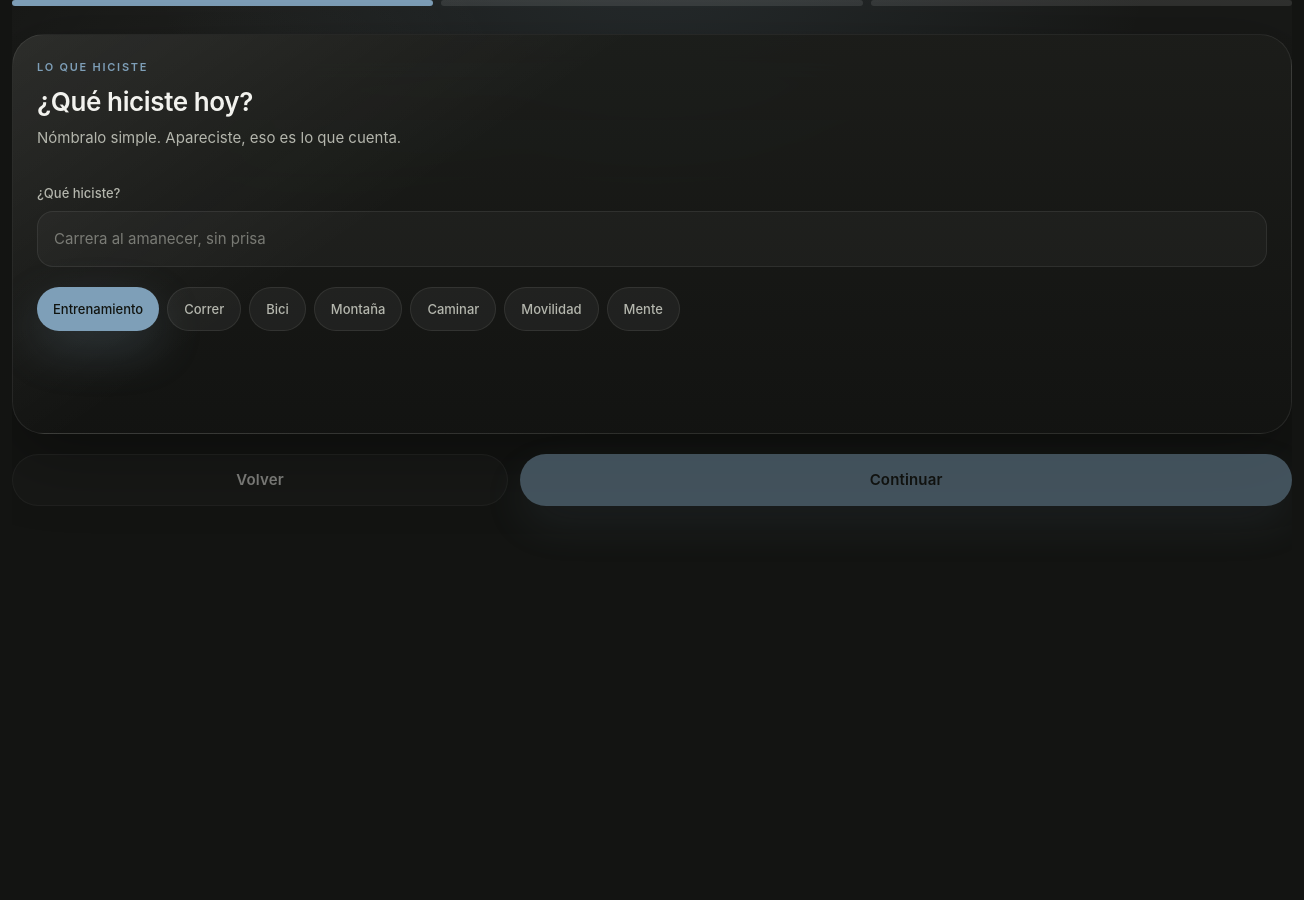
Test case: CommitFlowClient › reveals the note type only after words are written (writing before classification)
In the field labelled "¿Qué hiciste?": (652, 239) [37,211,1267,267], type "Tren inferior"
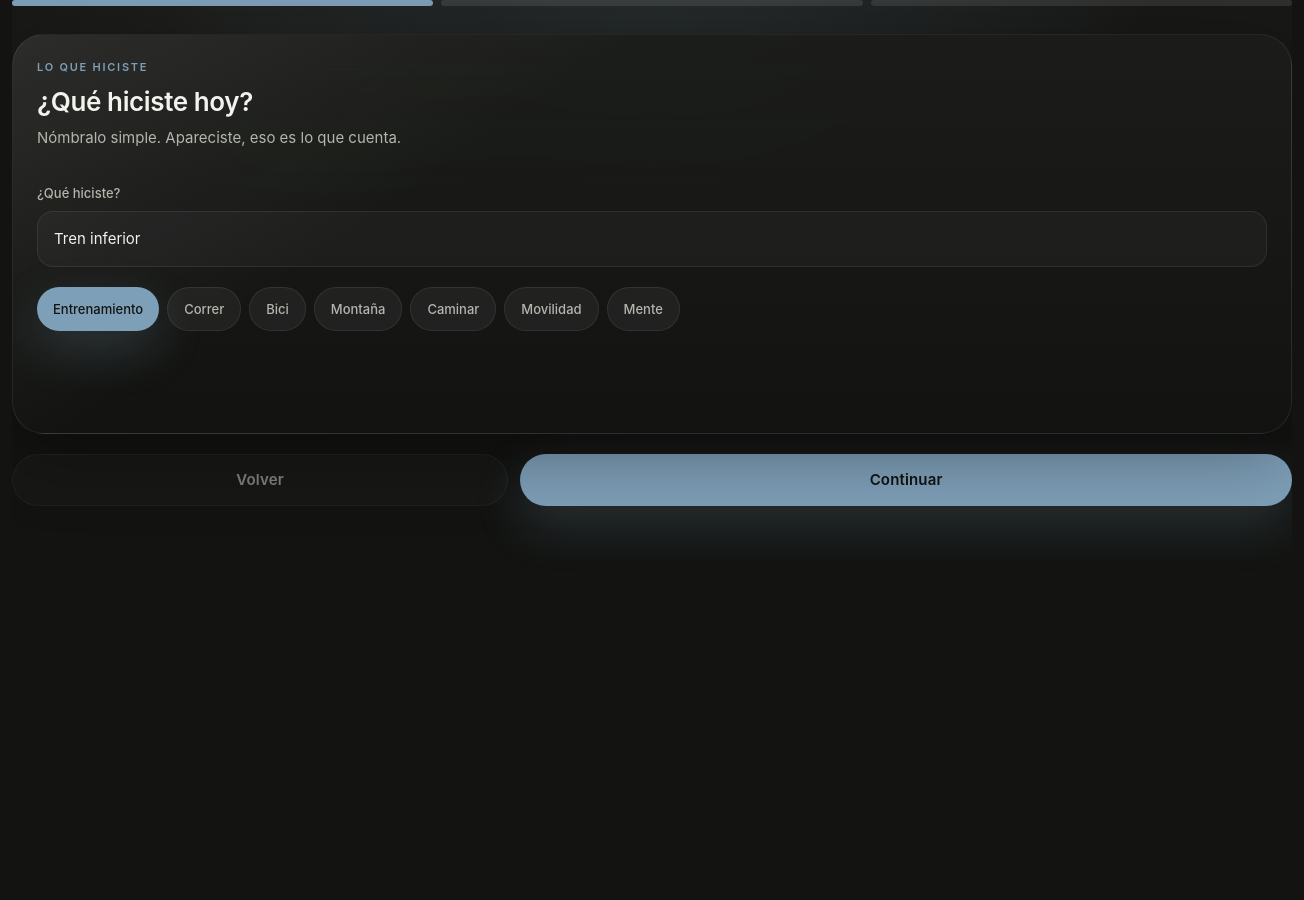
Click the button "Continuar": (906, 480) [520,454,1292,506]
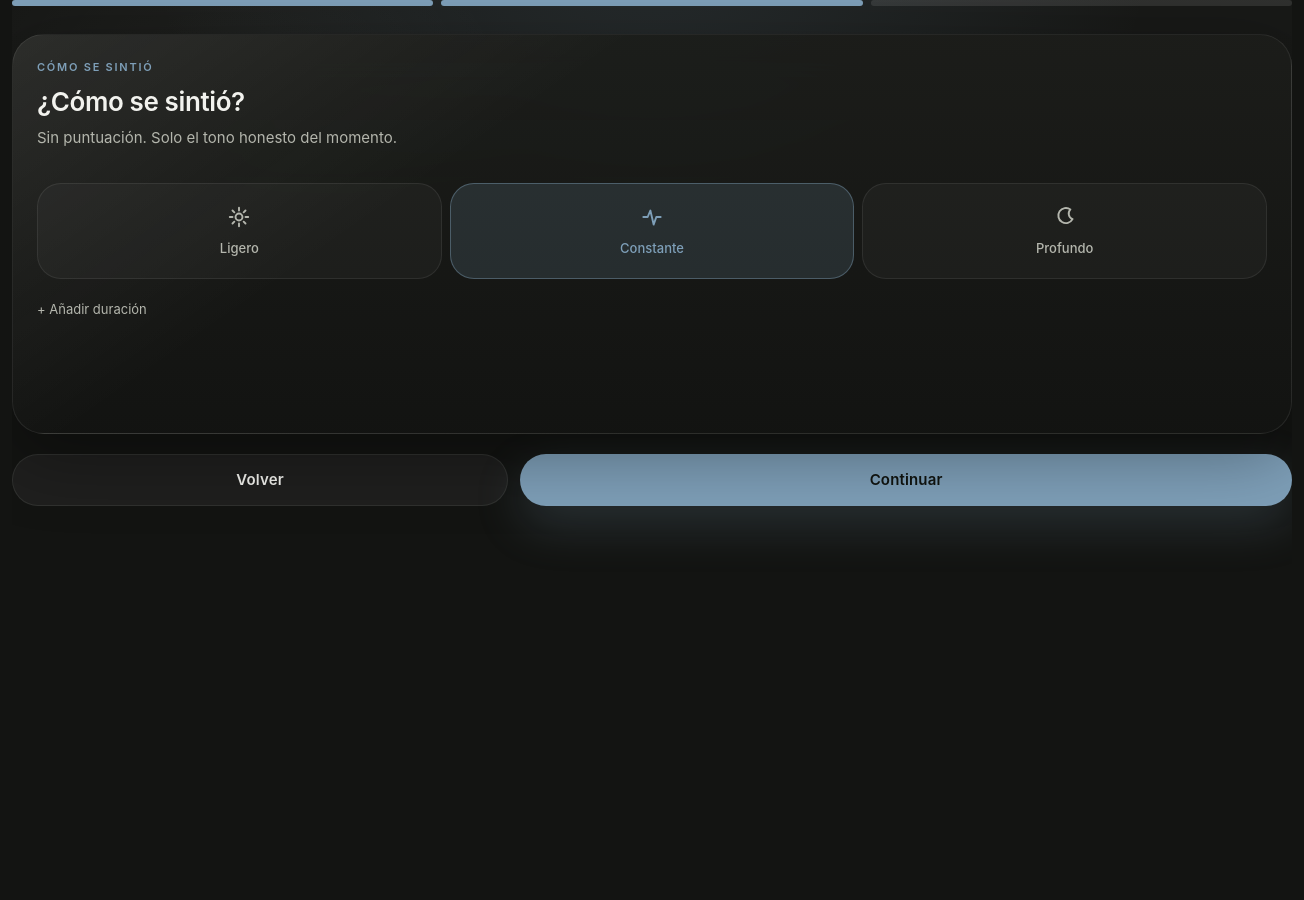
Click the button "Continuar": (906, 480) [520,454,1292,506]
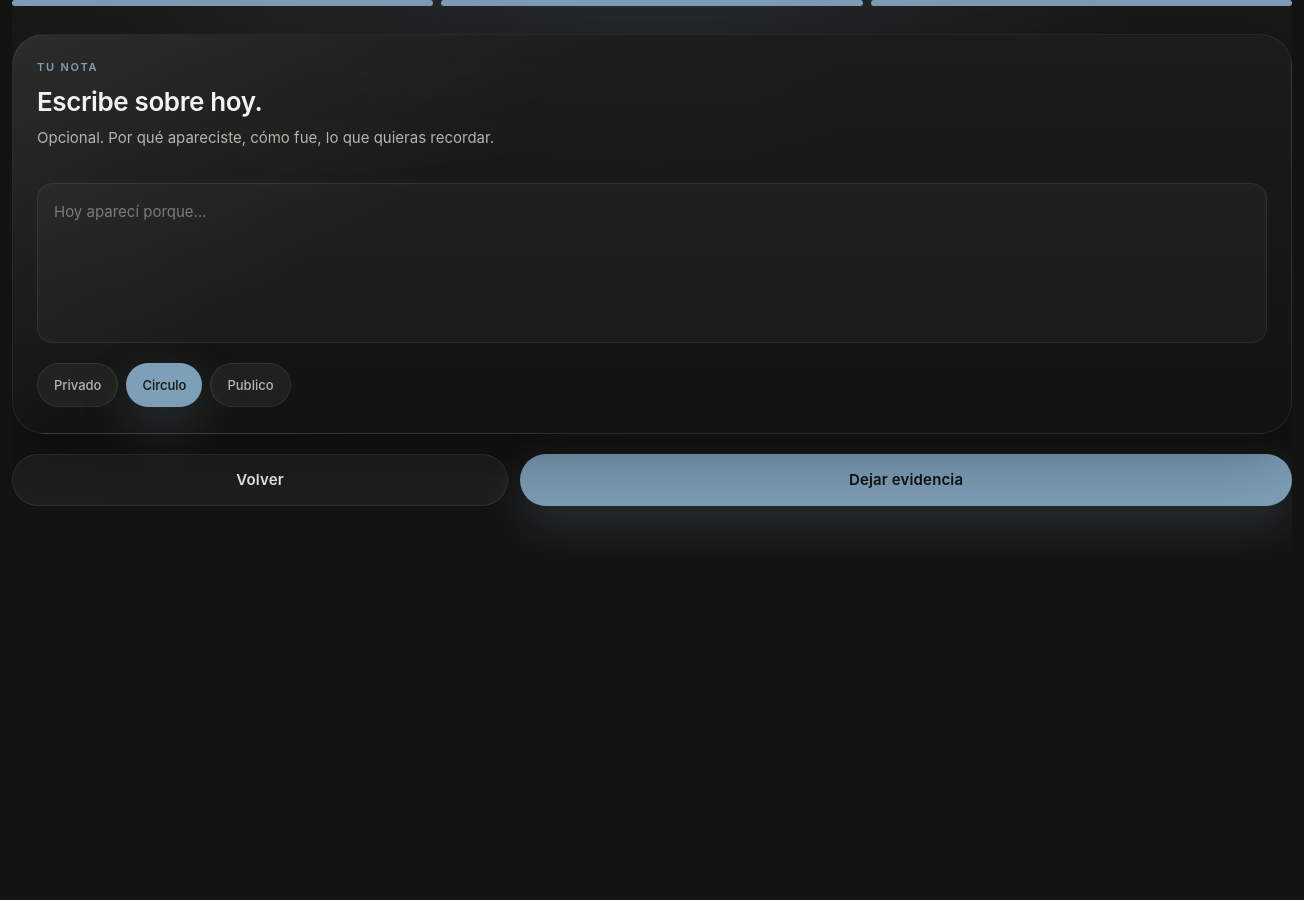
Expected: the button "Identidad" is not shown
In the text box named "Tu nota": (652, 263) [37,183,1267,343], type "Hoy me costó pero aparecí."
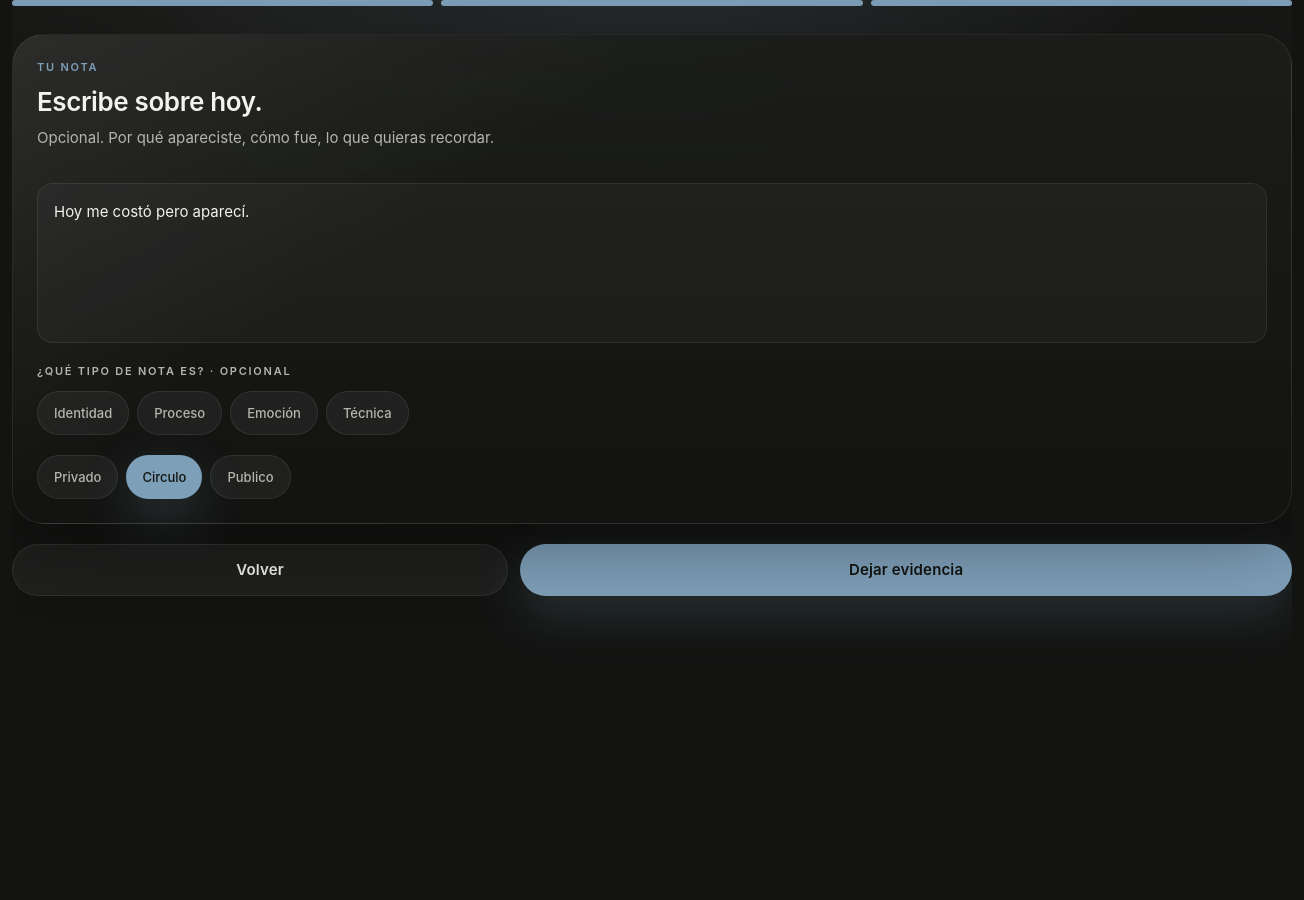
Expected: the button "Identidad" is shown, [37,391,129,435]
